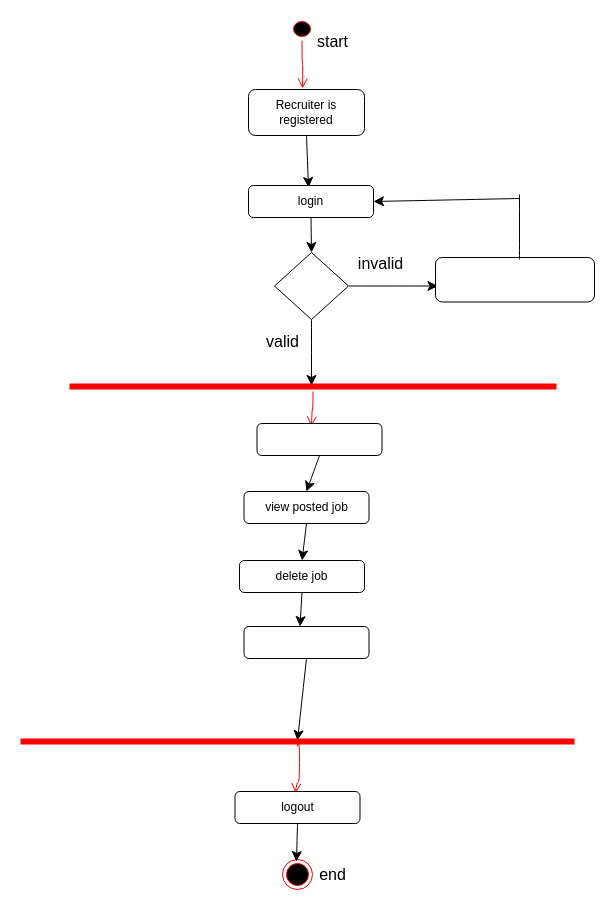
The diagram is 612 pixels wide and 907 high, and some of its shapes have lost their labels. The centre of each missing label's shape, as x and y in pixels:
"apply job" belongs at (306,642).
"Re-entered username and password" belongs at (514,279).
"Recruiter" belongs at (319,439).
